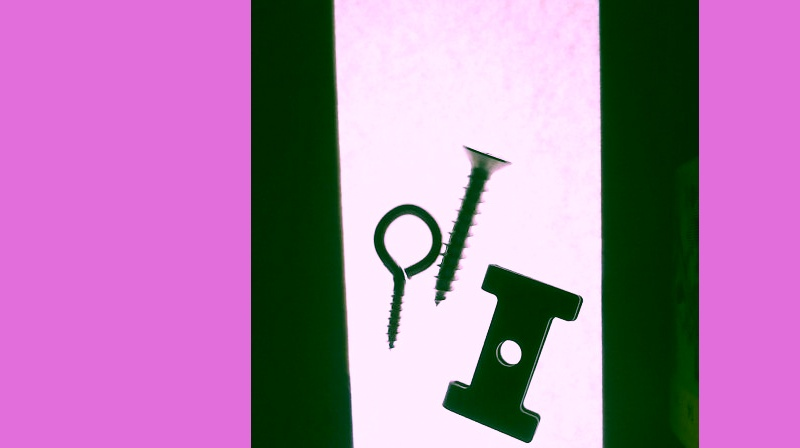O001: (371, 200, 444, 351)
O002: (440, 262, 583, 444)
S001: (432, 140, 514, 310)
